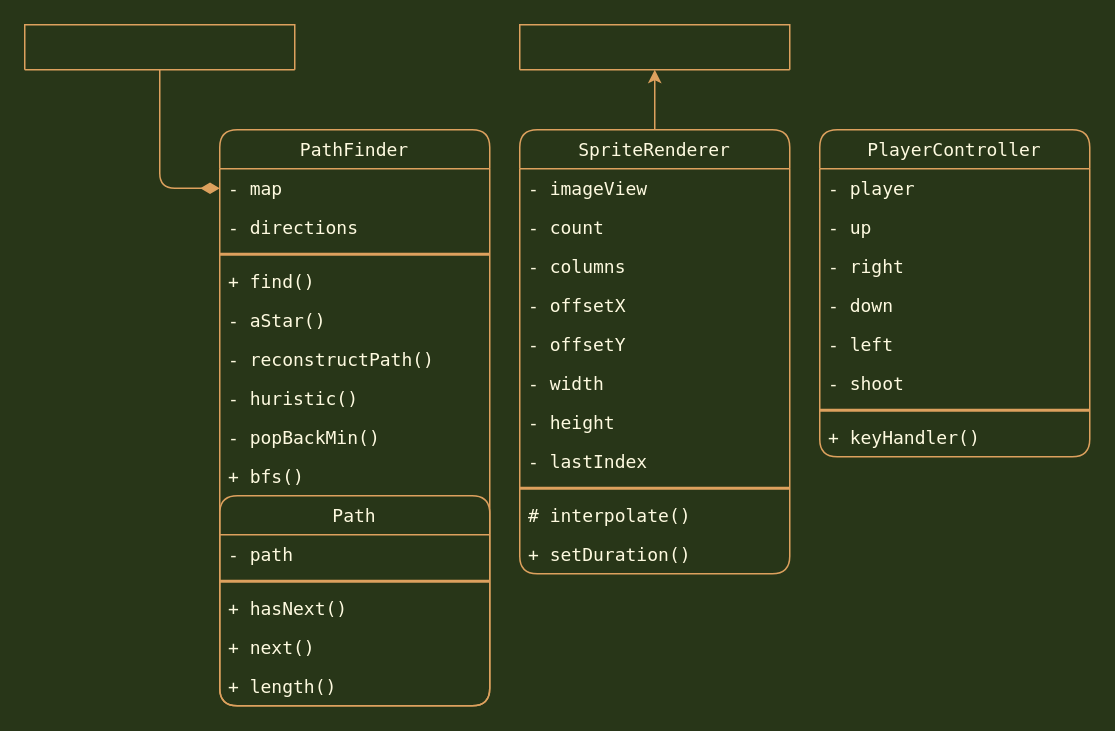
This 1115x731 diagram has some shape labels left out. The shapes that lost their labels are listed below. From the top down, each one's centre as x and y in pixels, then its label:
pixel 159 46: ir.ac.kntu.core.Map
pixel 654 46: javafx.animation.Transition
